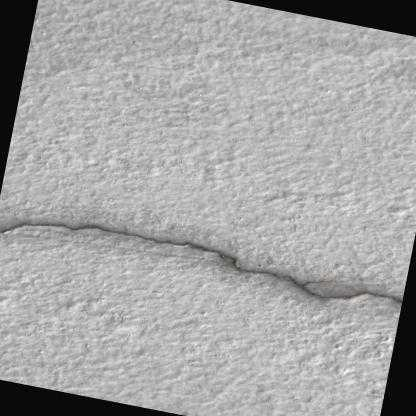crack: (0, 221, 402, 304)
